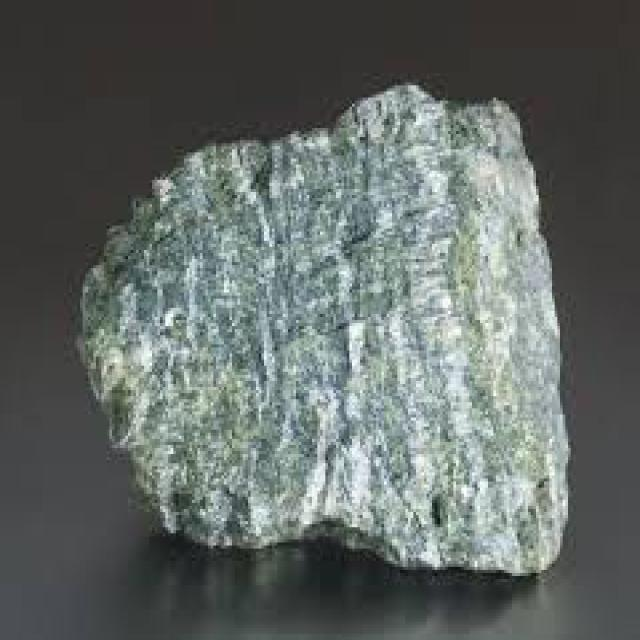Metamorphic: (56, 70, 576, 576)
